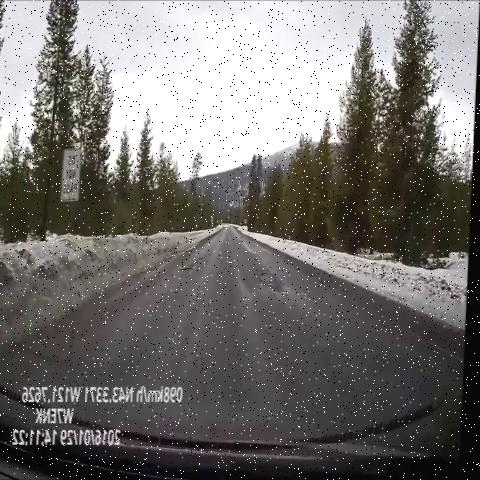pothole: (175, 250, 208, 282), (259, 263, 286, 297)
